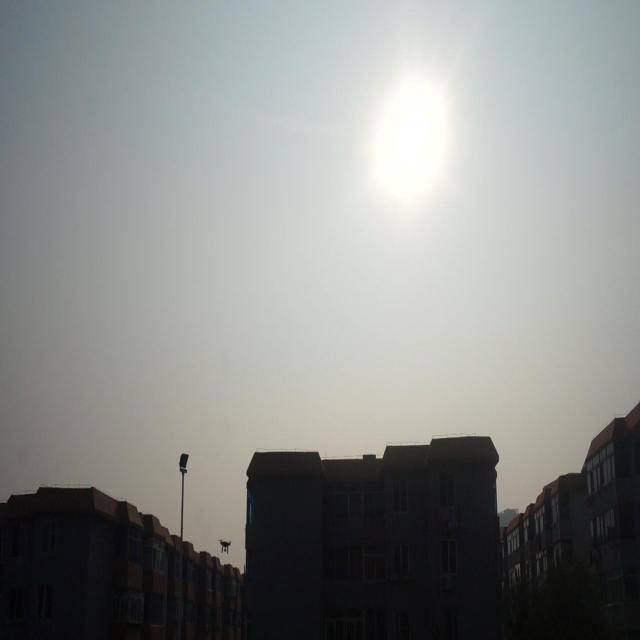drone: (217, 536, 234, 554)
